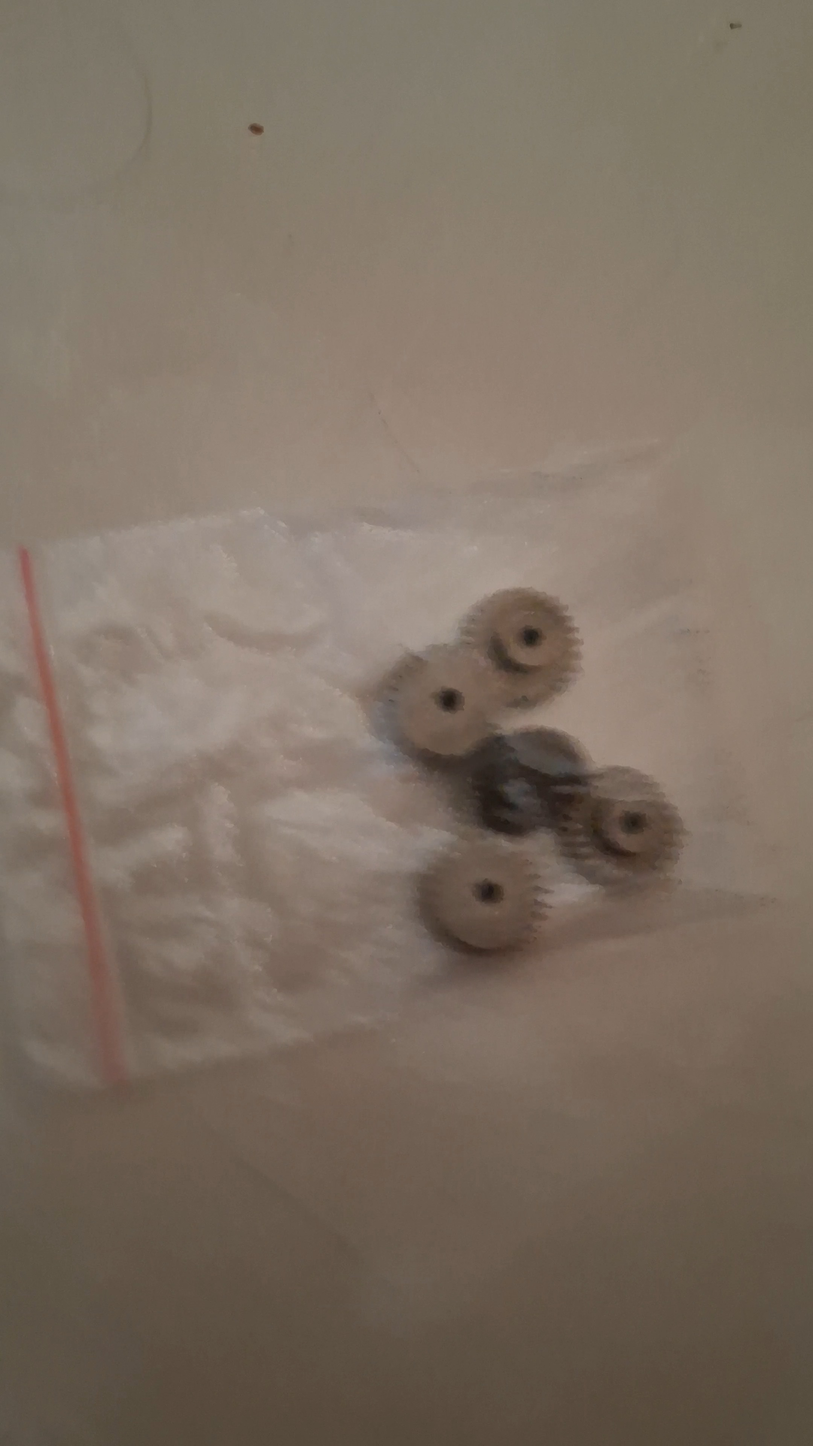spur gear: (556, 767, 682, 886), (422, 836, 545, 951), (461, 589, 580, 705), (388, 645, 497, 760), (471, 729, 589, 834)
